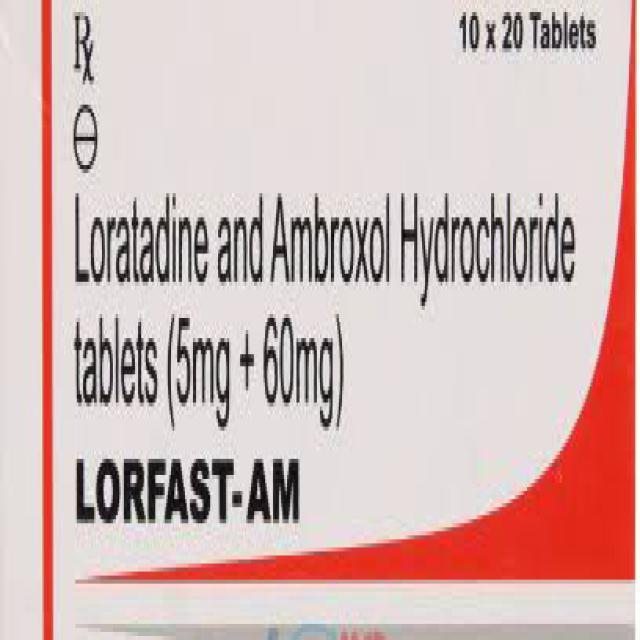drug-name: (69, 458, 307, 525)
